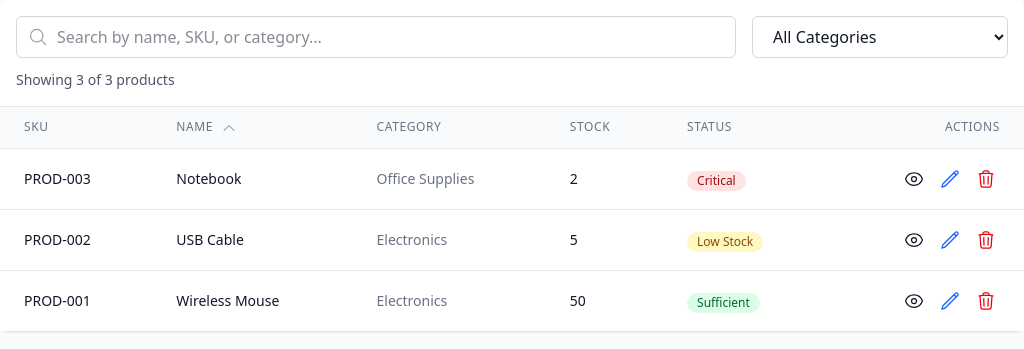
it: InventoryTable › filters products by search term
Type "Mouse" into the field with placeholder "Search by name, SKU, or category..." at (376, 37), box [16,16,736,58]
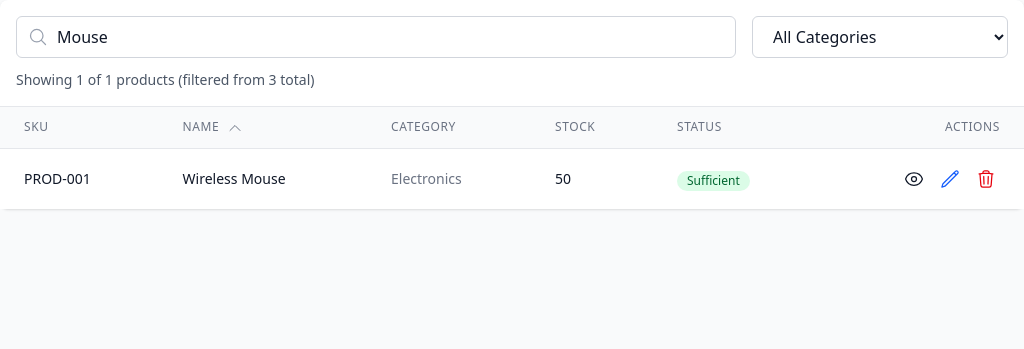
Expected: the text "Wireless Mouse" is shown, [159,148,367,209]
Now the text "USB Cable" is gone
Now the text "Notebook" is gone
